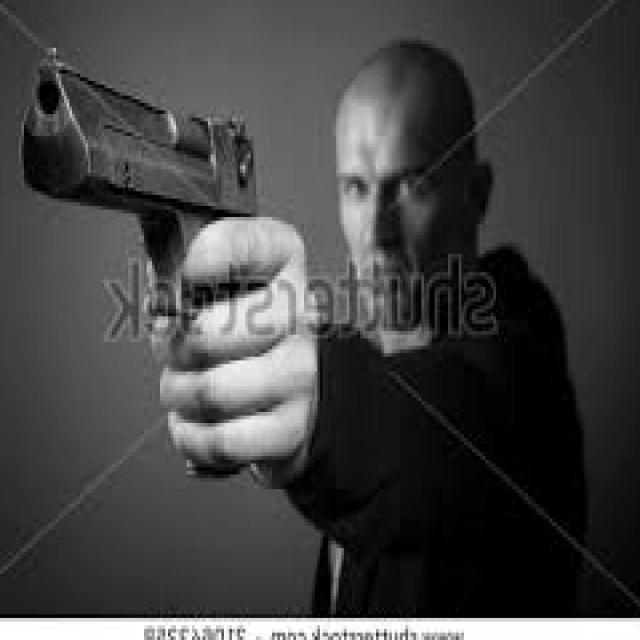gun: (19, 36, 281, 495)
